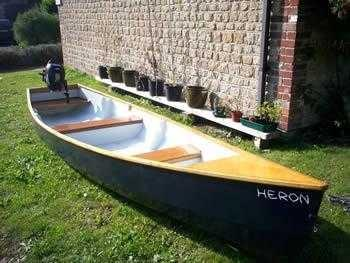kayak: (27, 70, 332, 258)
